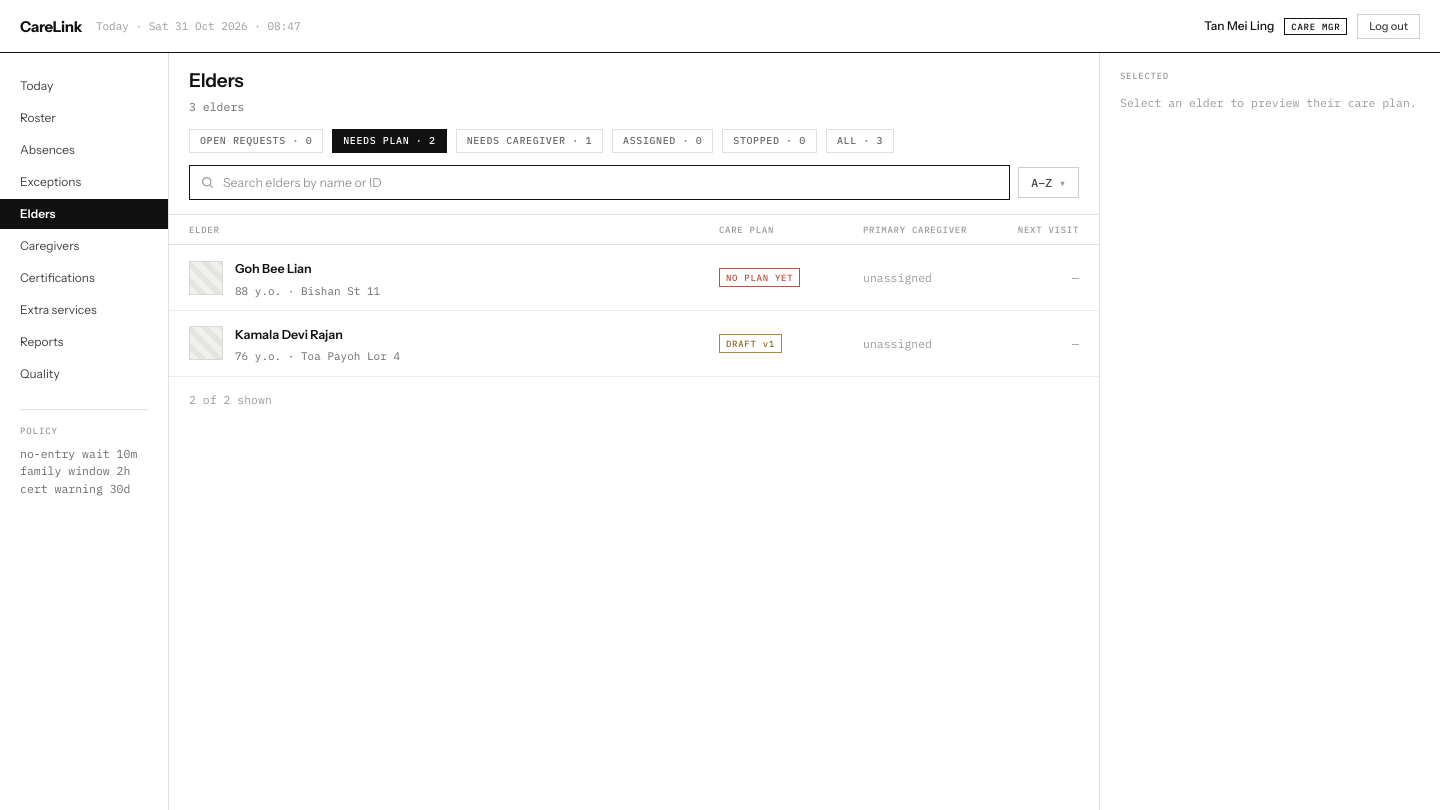
Scenario: opens on the elders who still need a care plan, with a count on every tab
Expected: the option "Goh Bee Lian 88 y.o. · Bishan St 11 NO PLAN YET unassigned —" is shown, x1=169 y1=245 x2=1099 y2=311
Expected: the option "Kamala Devi Rajan" is shown, x1=169 y1=311 x2=1099 y2=377
# Only a published plan moves an elder on to needing a caregiver.
Click the button "NEEDS CAREGIVER · 1".
click(529, 141)  # box x1=456 y1=129 x2=603 y2=153
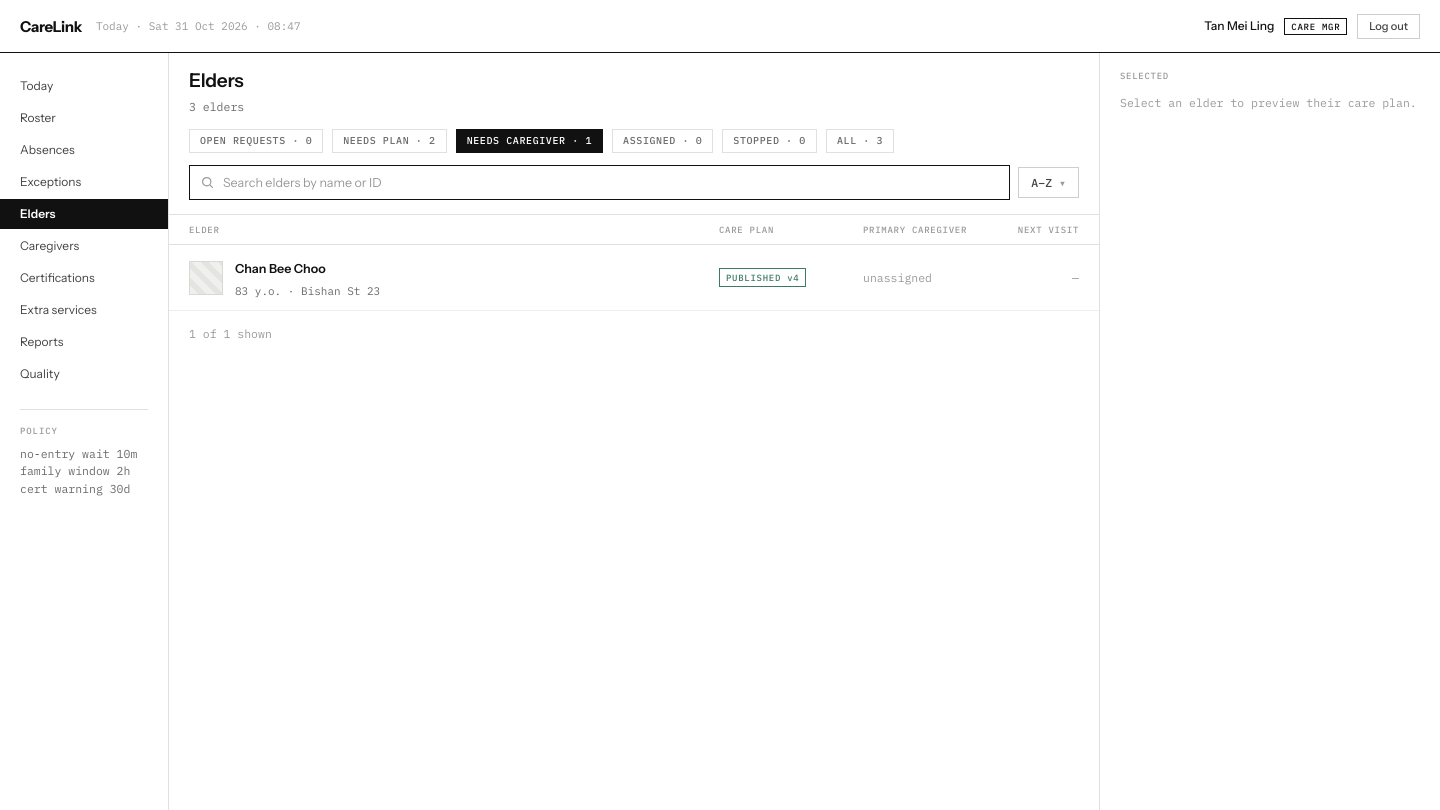
Now the option "Chan Bee Choo" is shown, box x1=169 y1=245 x2=1099 y2=311
Now the option "Kamala Devi Rajan" is gone
Now the option "Goh Bee Lian" is gone
